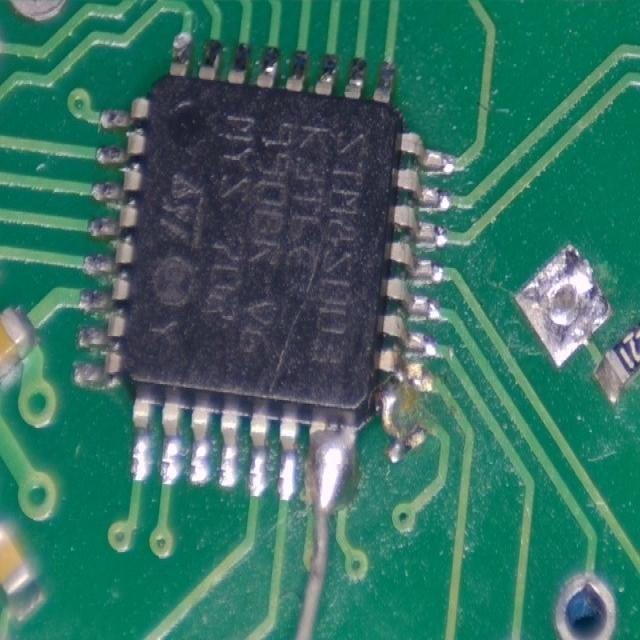Short_circuit: (514, 244, 612, 365), (306, 408, 356, 511)
